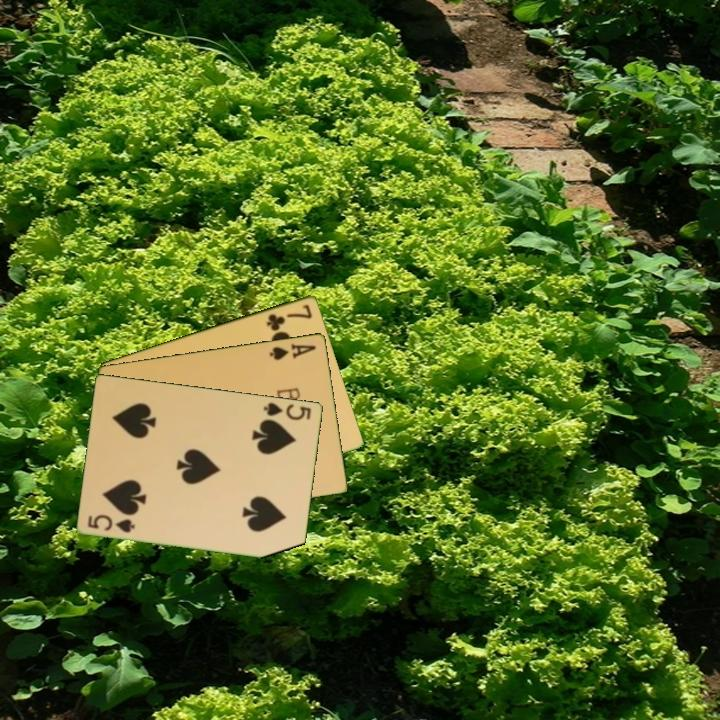5s: (260, 398, 314, 423), (84, 511, 138, 536)
7c: (263, 300, 315, 333)
As: (266, 339, 319, 363)
